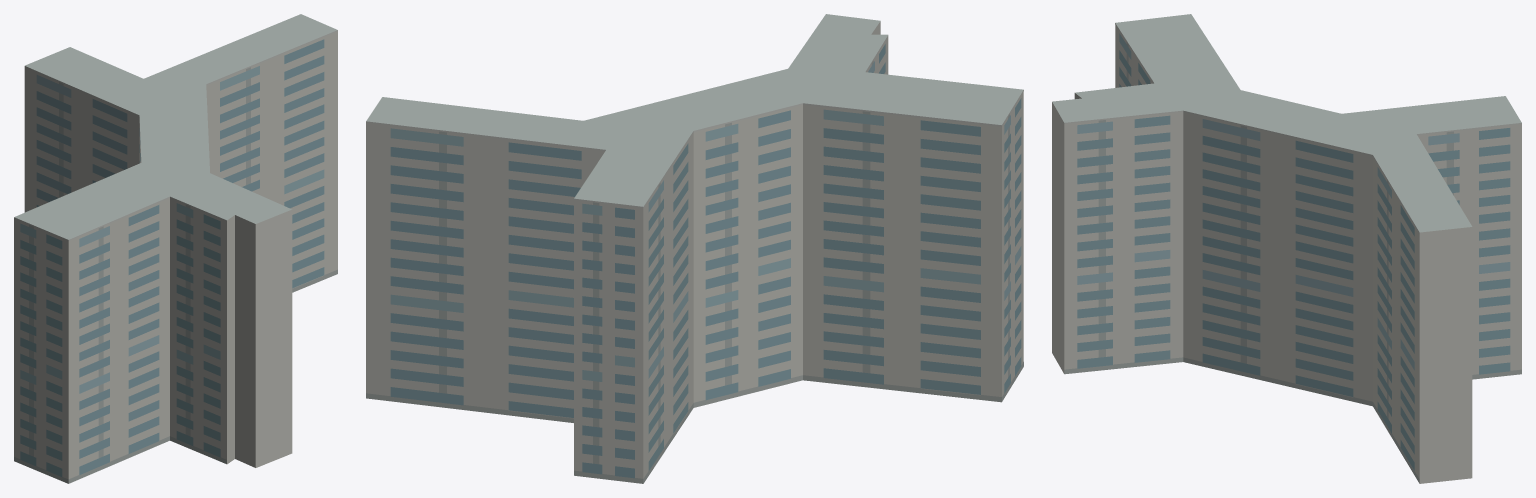
The model's file is residential-a73b43dc-2a9f-4f40-b8dd-8fb12f72dc94.glb.
The picture shows the model from 3 angles, left to right: view 1: azimuth 30°, elevation 25°; view 2: azimuth 150°, elevation 25°; view 3: azimuth 270°, elevation 25°; orthographic projection. The views are drawn at different scales.
Parts seen in each view (by area): view 1: residential-a73b43dc-2a9f-4f40-b8dd-8fb12f72dc94.tmp; view 2: residential-a73b43dc-2a9f-4f40-b8dd-8fb12f72dc94.tmp; view 3: residential-a73b43dc-2a9f-4f40-b8dd-8fb12f72dc94.tmp.
Boxes of the visible parts, x1,y1,x2,y2 form: residential-a73b43dc-2a9f-4f40-b8dd-8fb12f72dc94.tmp: (14, 14, 337, 483); residential-a73b43dc-2a9f-4f40-b8dd-8fb12f72dc94.tmp: (366, 14, 1023, 483); residential-a73b43dc-2a9f-4f40-b8dd-8fb12f72dc94.tmp: (1052, 14, 1521, 483).
Size of the model in its own units: 85.28 by 45.75 by 77.48.
